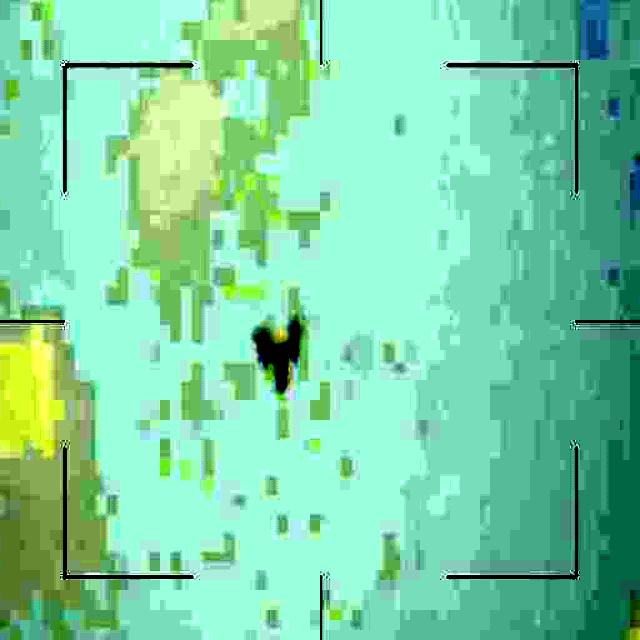bird: (256, 311, 310, 408)
